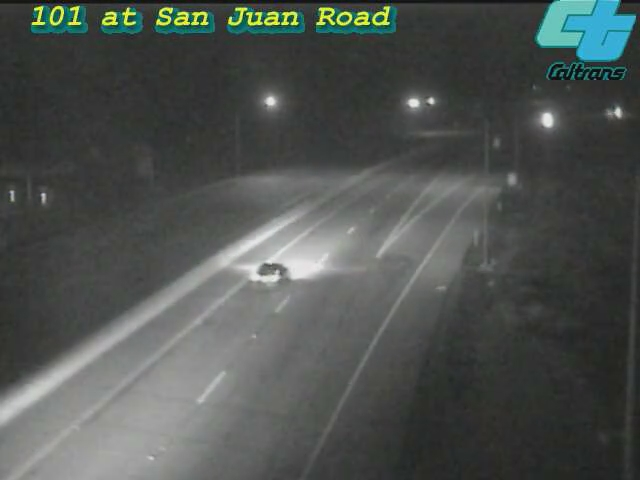vehicle: (232, 230, 312, 310), (585, 90, 635, 140), (522, 95, 572, 145), (594, 87, 640, 137)
